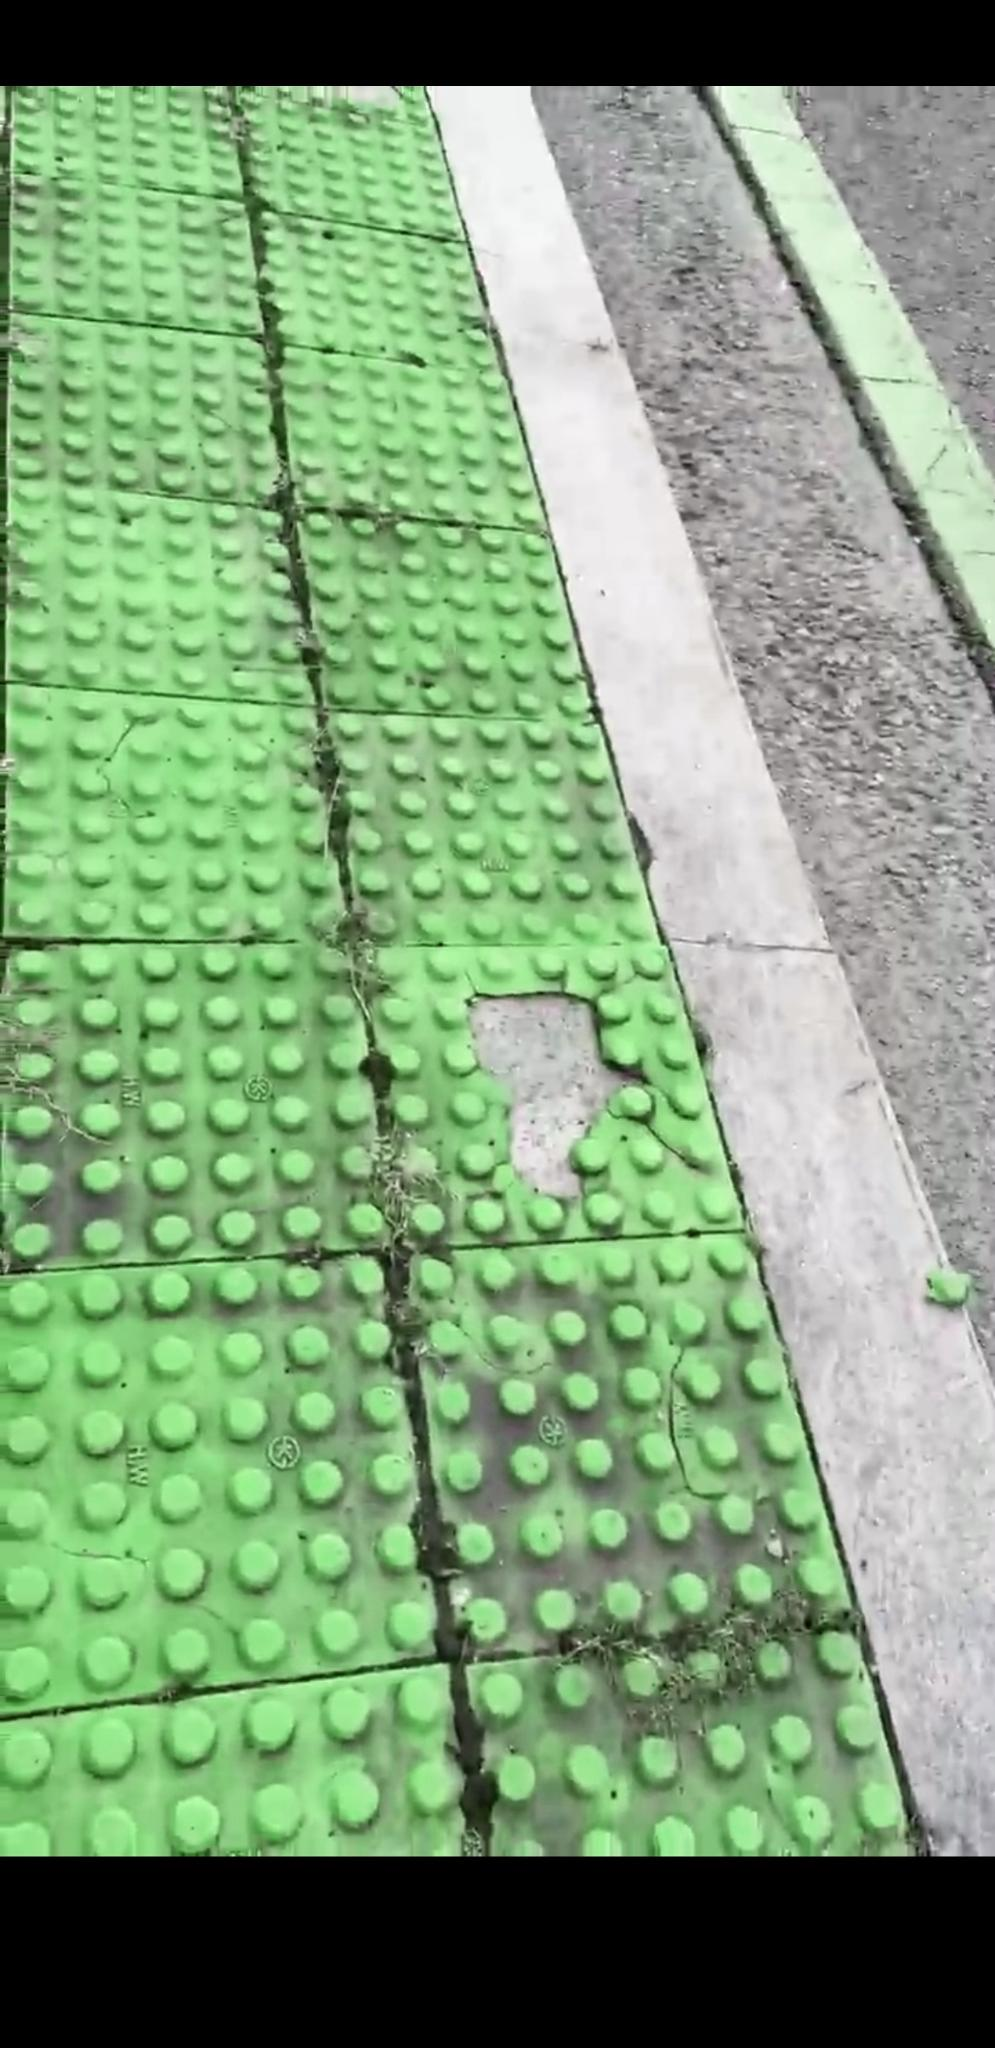Stop block broken: (367, 948, 744, 1250)
Stop block normal: (7, 944, 389, 1270), (5, 686, 342, 939), (329, 714, 657, 939), (8, 482, 312, 703), (298, 515, 594, 720)
